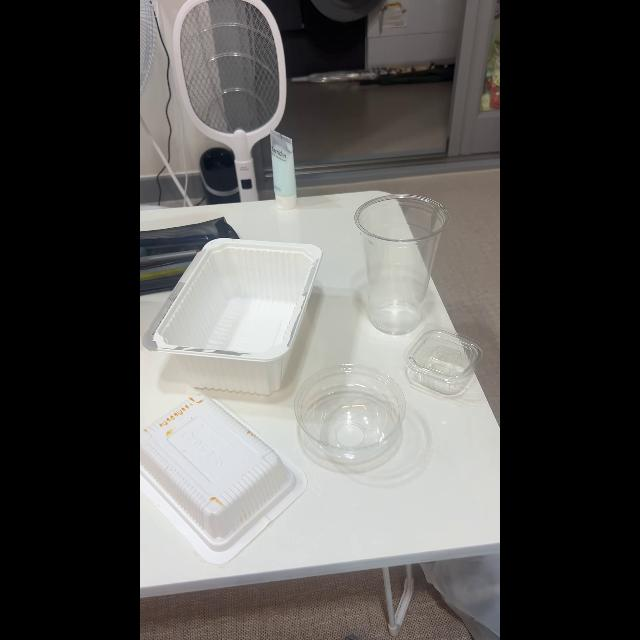clean: (158, 238, 318, 394), (356, 195, 448, 332), (298, 368, 408, 464), (406, 326, 482, 394)
dirty: (140, 393, 300, 557)
